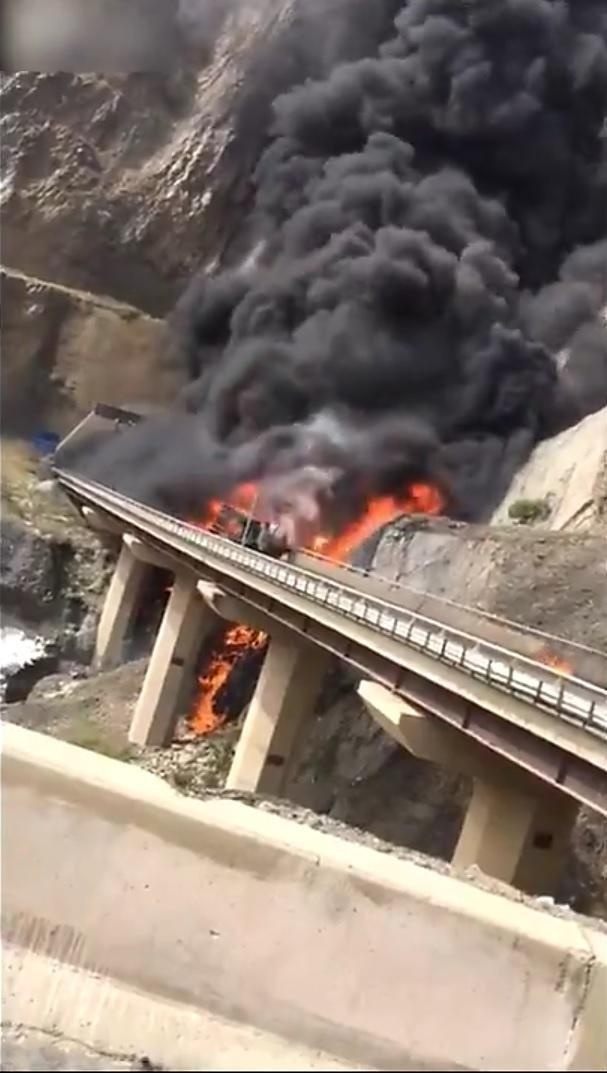fire: (314, 482, 438, 560), (187, 620, 262, 734), (199, 481, 262, 535)
